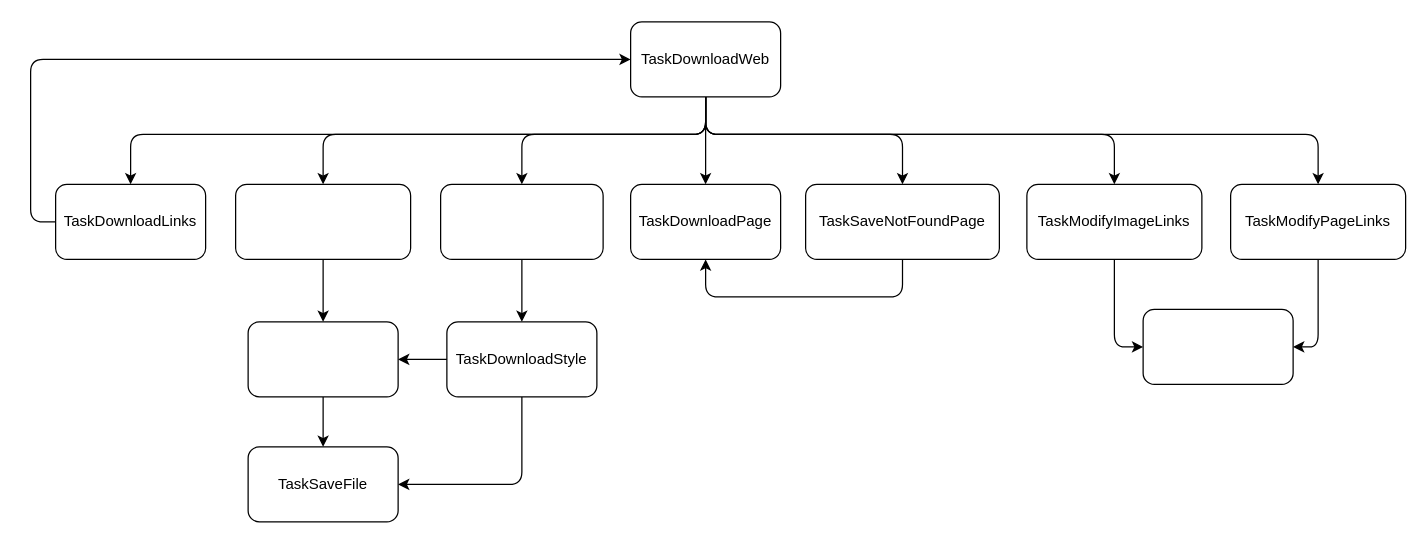
Some shapes in this 1428 by 544 pixel diagram are drawn without their labels. Each missing label, with the box of its shape:
TaskDownloadFile: (247, 321, 398, 397)
TaskDownloadImages: (234, 183, 411, 259)
TaskDownloadStyles: (439, 183, 603, 259)
TaskModifyLinks: (1142, 308, 1293, 384)
